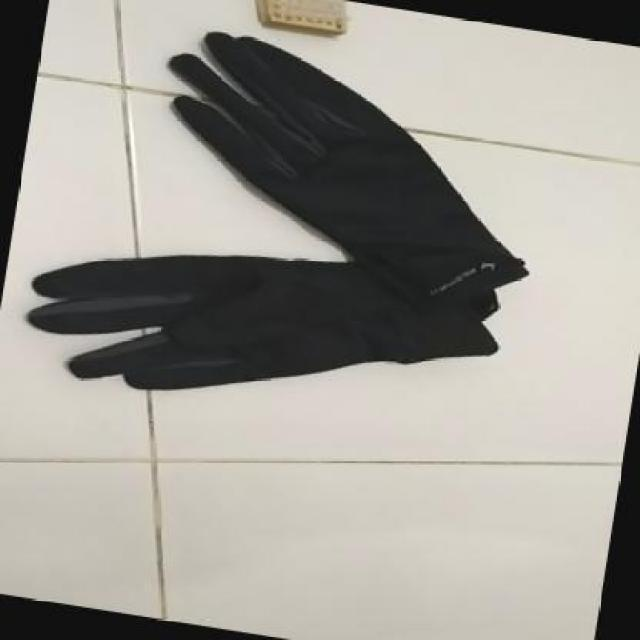glove: (26, 30, 529, 390)
